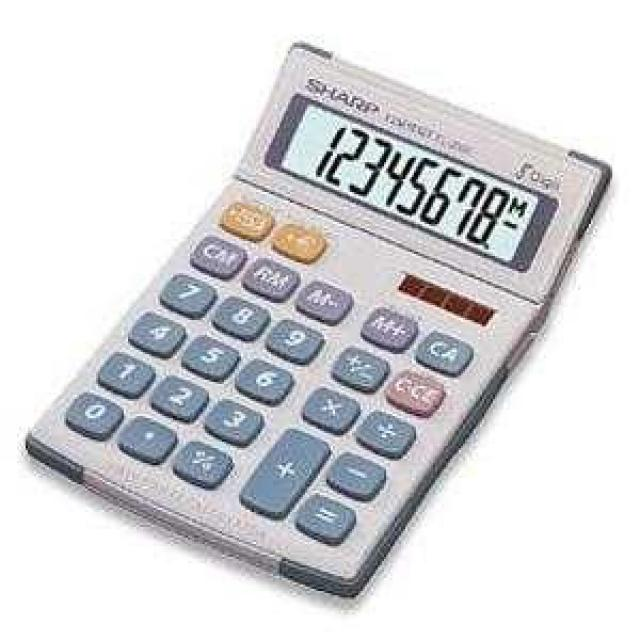Calculator: (21, 37, 612, 600)
